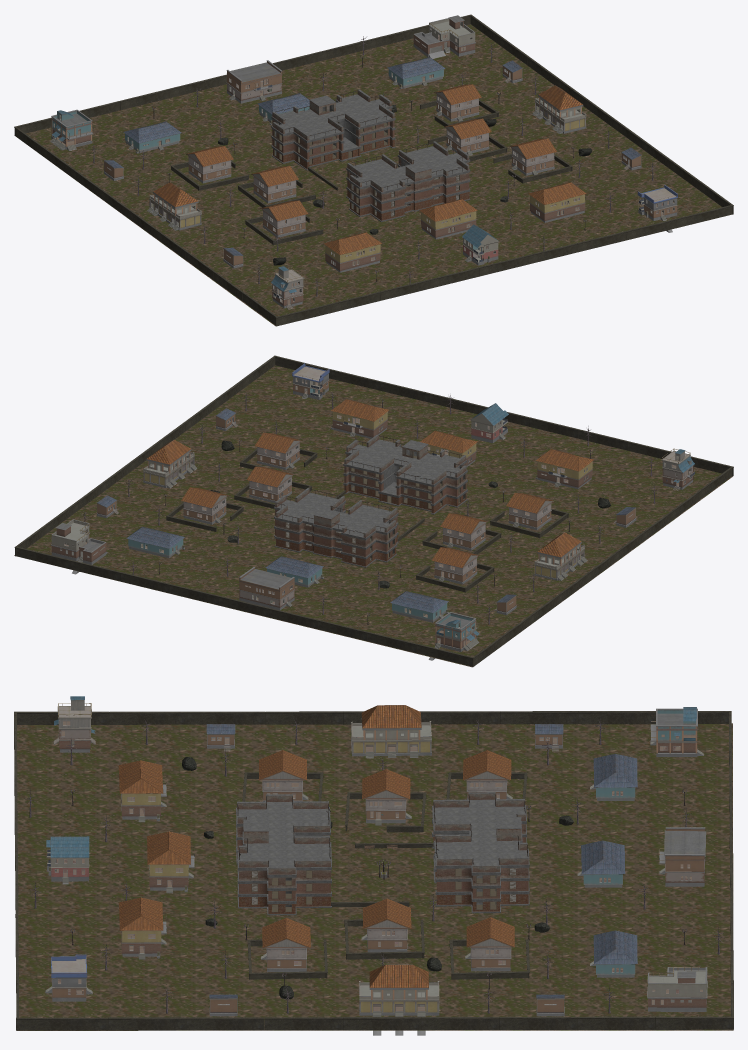
The model's file is village_lowres.glb.
The picture shows the model from 3 angles, top to bottom: view 1: azimuth 30°, elevation 25°; view 2: azimuth 150°, elevation 25°; view 3: azimuth 270°, elevation 25°; orthographic projection. The views are drawn at different scales.
Visible parts, largest first — view 1: Plane_2, HouseSmall_1, Wall_8, HouseCenter_0, Tree_7, rock_3; view 2: Plane_2, HouseSmall_1, Wall_8, HouseCenter_0, Tree_7; view 3: Plane_2, HouseSmall_1, Wall_8, HouseCenter_0, Tree_7, rock_3.
Part boxes in pixels (box(x1,y1,x2,y2)): Plane_2: box(26, 24, 729, 325); HouseSmall_1: box(50, 15, 677, 309); Wall_8: box(14, 14, 733, 326); HouseCenter_0: box(271, 89, 470, 222); Tree_7: box(89, 36, 656, 296); rock_3: box(218, 105, 591, 265); Plane_2: box(14, 365, 732, 667); HouseSmall_1: box(51, 363, 694, 660); Wall_8: box(14, 355, 733, 666); HouseCenter_0: box(274, 434, 467, 567); Tree_7: box(81, 392, 658, 624); Plane_2: box(17, 723, 733, 1030); HouseSmall_1: box(45, 696, 707, 1035); Wall_8: box(14, 711, 733, 1030); HouseCenter_0: box(236, 792, 529, 915); Tree_7: box(24, 717, 724, 1013); rock_3: box(182, 757, 573, 999).
Size of the model in its own units: 217 by 21.31 by 214.
9 materials, 9 textured.
